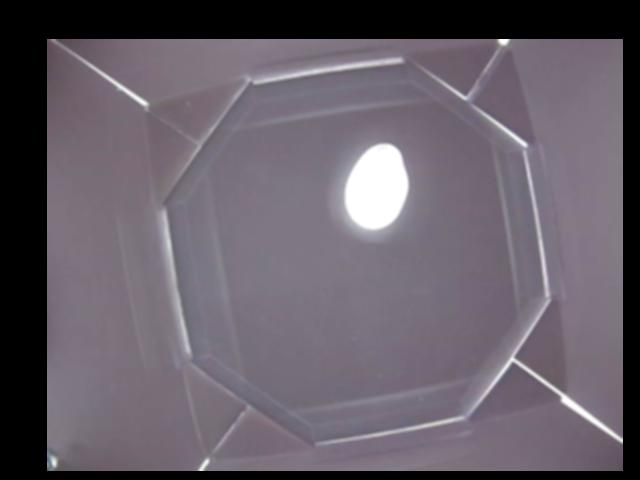Pebble: (345, 144, 407, 233)
